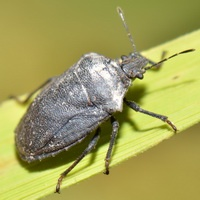insect: (0, 101, 88, 199), (126, 30, 199, 130), (132, 132, 199, 198), (111, 105, 172, 164), (62, 121, 110, 186)
